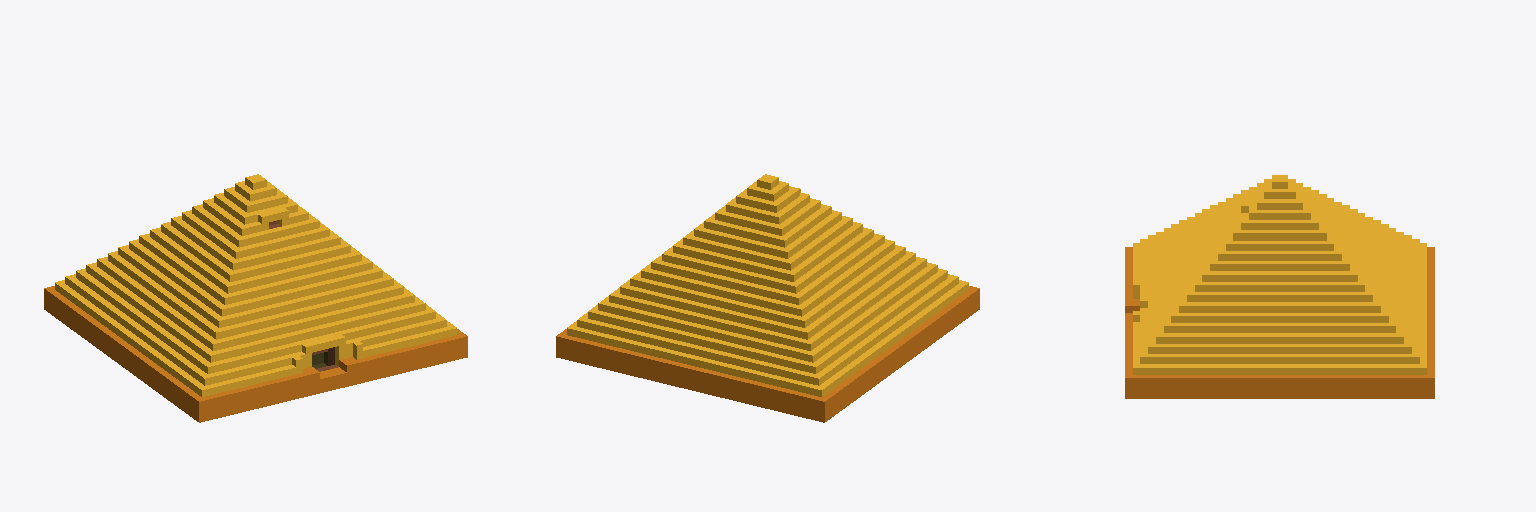
The picture shows the model from 3 angles: view 1: azimuth 30°, elevation 25°; view 2: azimuth 150°, elevation 25°; view 3: azimuth 270°, elevation 25°; orthographic projection.
Visible parts, largest first — view 1: object 1; view 2: object 1; view 3: object 1.
Boxes of the visible parts, box(x1,y1,x2,y2) form: object 1: box(44, 174, 467, 422); object 1: box(556, 174, 979, 422); object 1: box(1125, 175, 1434, 398).
Size of the model in its own units: 4 by 2.2 by 4.
1 materials, 1 textured.